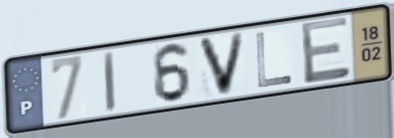6: (150, 40, 193, 106)
7: (48, 54, 88, 121)
E: (298, 14, 354, 88)
I: (102, 49, 118, 114)
L: (253, 30, 295, 90)
V: (195, 29, 249, 99)
